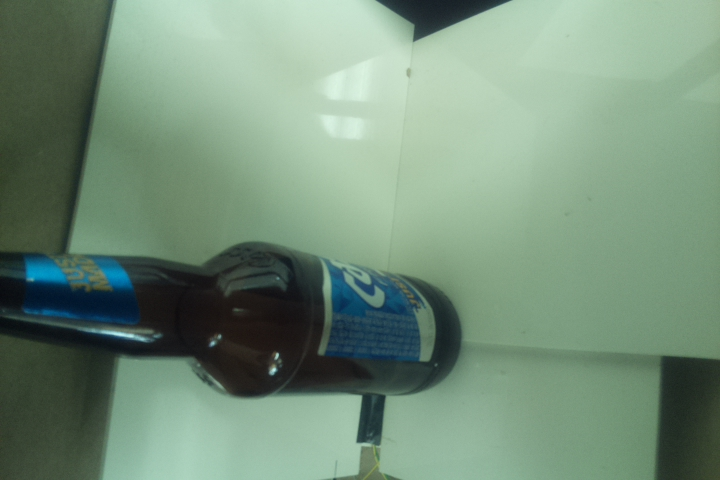makju: (1, 237, 461, 401)
